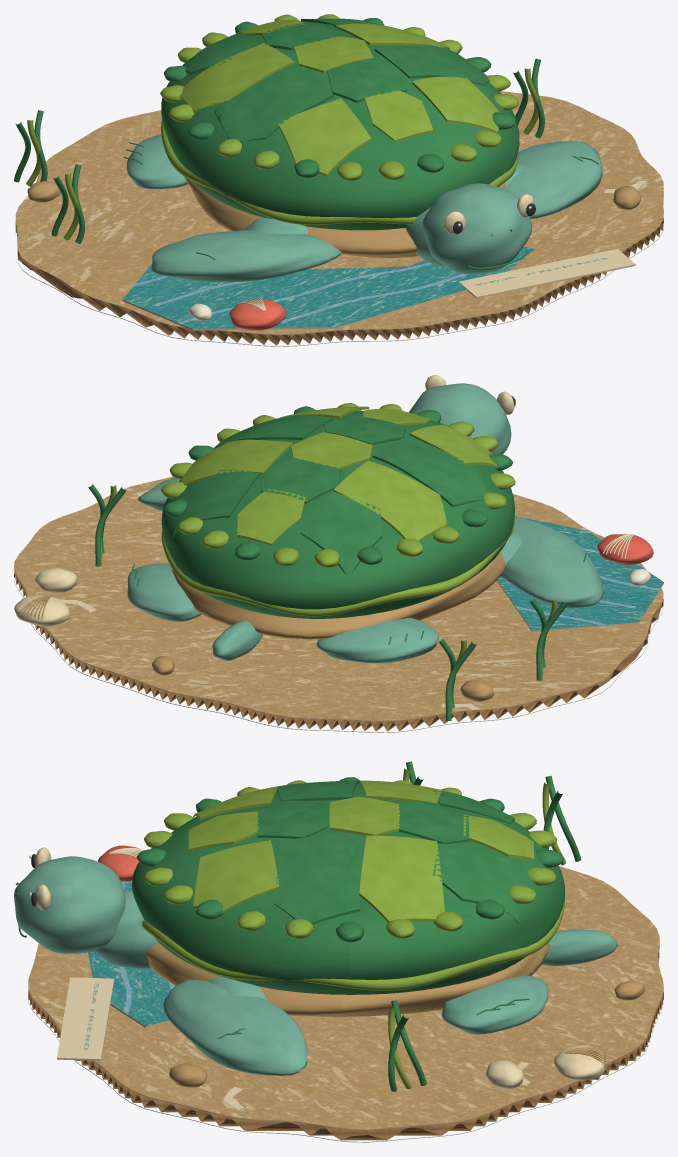
The model's file is 32_clay_sea_turtle.glb.
The picture shows the model from 3 angles, top to bottom: view 1: azimuth 30°, elevation 25°; view 2: azimuth 150°, elevation 25°; view 3: azimuth 270°, elevation 25°; orthographic projection. The views are drawn at different scales.
Visible parts, largest first — view 1: artwork_32_clay_sea_turtle, clay_green, clay_lime, clay_mint, flute, clay_sand, edge, clay_coral, clay_cream; view 2: artwork_32_clay_sea_turtle, clay_green, clay_lime, clay_mint, clay_sand, flute, clay_cream, edge, clay_coral; view 3: artwork_32_clay_sea_turtle, clay_green, clay_lime, clay_mint, clay_sand, flute, clay_cream, edge, clay_coral.
Boxes of the visible parts, box(x1,y1,x2,y2) form: artwork_32_clay_sea_turtle: box(15, 91, 663, 334); clay_green: box(14, 18, 598, 269); clay_lime: box(26, 14, 538, 240); clay_mint: box(126, 134, 602, 282); flute: box(15, 192, 663, 345); clay_sand: box(27, 176, 641, 258); edge: box(16, 191, 663, 346); clay_coral: box(229, 299, 286, 330); clay_cream: box(234, 194, 534, 310); artwork_32_clay_sea_turtle: box(14, 476, 663, 720); clay_green: box(88, 406, 586, 720); clay_lime: box(101, 403, 557, 713); clay_mint: box(127, 383, 603, 663); clay_sand: box(19, 551, 505, 701); flute: box(14, 571, 663, 731); clay_cream: box(14, 375, 633, 626); edge: box(14, 569, 663, 732); clay_coral: box(597, 534, 653, 564); artwork_32_clay_sea_turtle: box(28, 866, 663, 1129); clay_green: box(16, 761, 581, 1091); clay_lime: box(142, 768, 566, 1088); clay_mint: box(14, 856, 617, 1075); clay_sand: box(146, 942, 644, 1087); flute: box(28, 941, 663, 1140); clay_cream: box(35, 847, 607, 1089); edge: box(28, 949, 663, 1142); clay_coral: box(98, 845, 139, 881).
Bounding box in the file's own units: 0.4952 × 0.1317 × 0.4421.
Materials: 13 (12 with a texture image).
